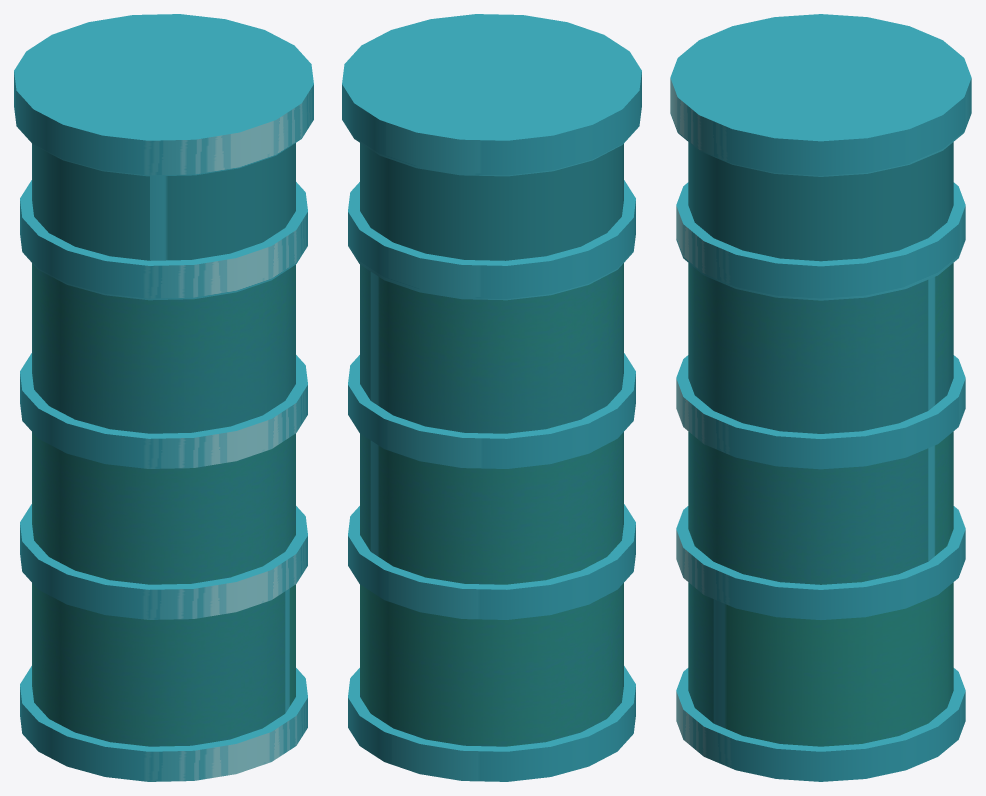
Rendered from lalalalala.fbx.
The picture shows the model from 3 angles, left to right: view 1: azimuth 30°, elevation 25°; view 2: azimuth 150°, elevation 25°; view 3: azimuth 270°, elevation 25°; orthographic projection.
Visible parts, largest first — view 1: polySurface5, polySurface6; view 2: polySurface5, polySurface6; view 3: polySurface5, polySurface6.
Part boxes in pixels (bbox=[...]): polySurface5: bbox=[32, 143, 295, 746]; polySurface6: bbox=[14, 14, 313, 781]; polySurface5: bbox=[360, 143, 623, 746]; polySurface6: bbox=[342, 14, 641, 781]; polySurface5: bbox=[688, 142, 953, 746]; polySurface6: bbox=[670, 14, 971, 781].
Bounding box in the file's own units: 1341 × 3158 × 1341.
Materials: 1 (1 with a texture image).
